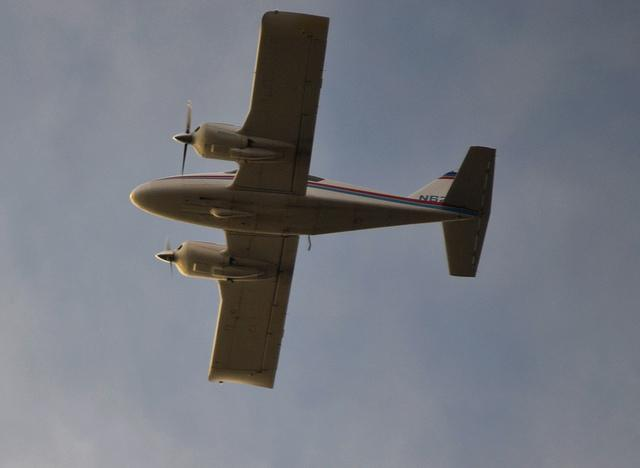airplane: (123, 9, 499, 388)
